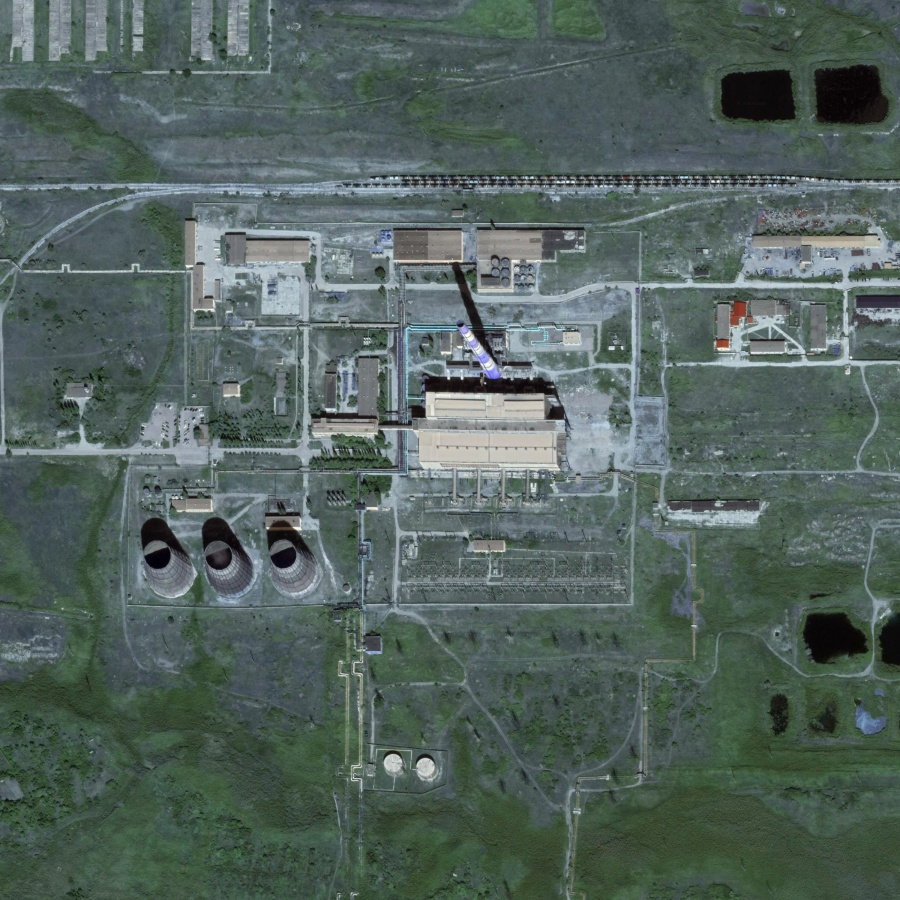PowerPlant: (114, 200, 596, 629)
